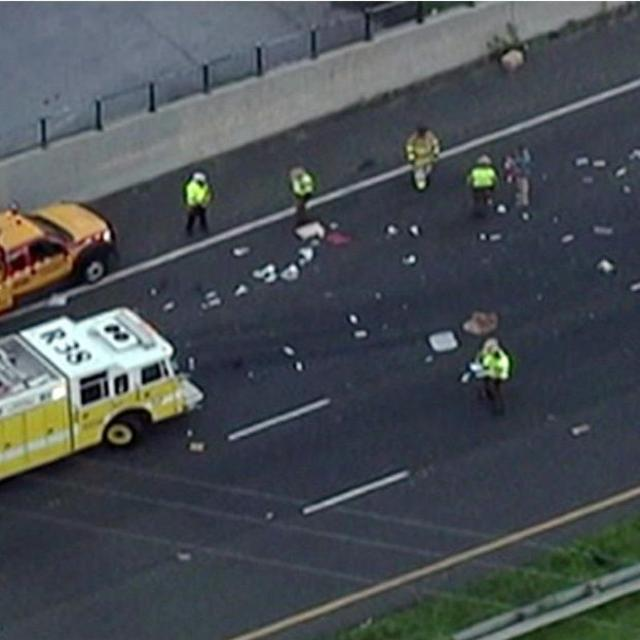traffic_incident: (128, 105, 624, 394)
